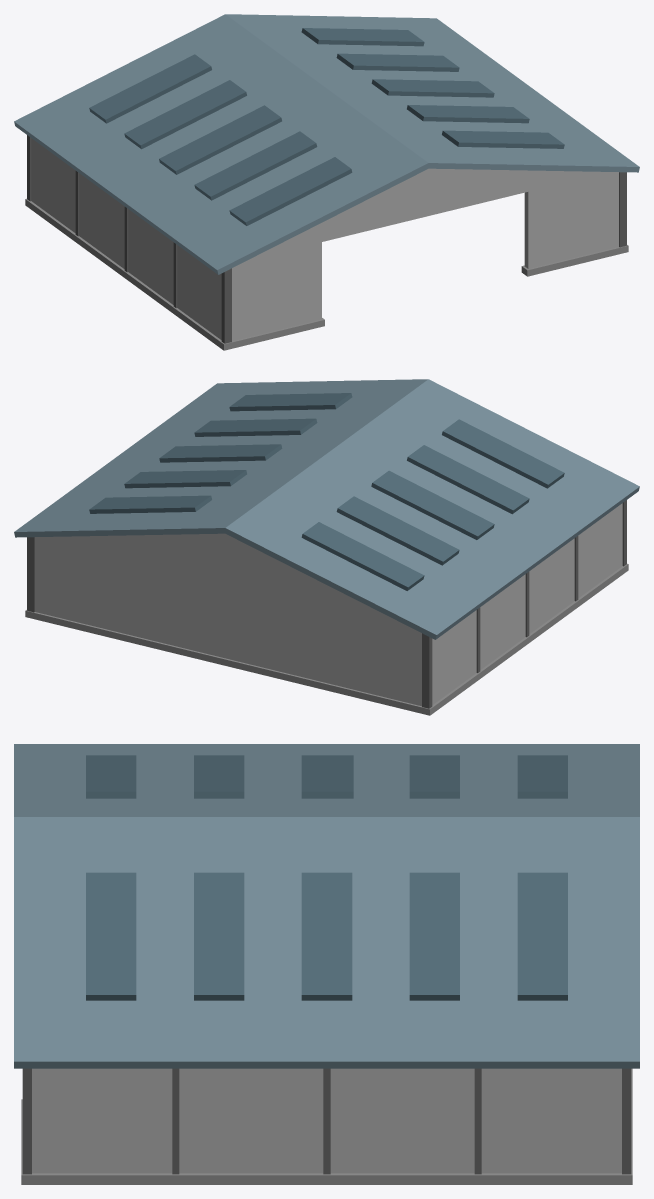
Rendered from Hangar1.fbx.
The picture shows the model from 3 angles, top to bottom: view 1: azimuth 30°, elevation 25°; view 2: azimuth 150°, elevation 25°; view 3: azimuth 270°, elevation 25°; orthographic projection. The views are drawn at different scales.
Parts seen in each view (by area): view 1: Roof, Hangar; view 2: Roof, Hangar; view 3: Roof, Hangar.
Part boxes in pixels (bbox=[...]): Roof: bbox=[14, 14, 639, 274]; Hangar: bbox=[25, 135, 628, 350]; Roof: bbox=[14, 379, 639, 639]; Hangar: bbox=[25, 500, 628, 715]; Roof: bbox=[14, 744, 639, 1068]; Hangar: bbox=[21, 1068, 632, 1184].
Bounding box in the file's own units: 2089 × 662 × 1740.
